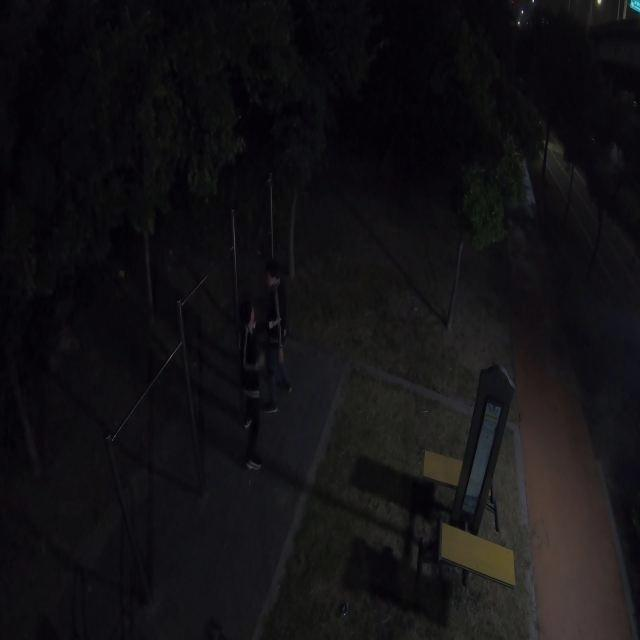fight: (237, 260, 291, 474)
